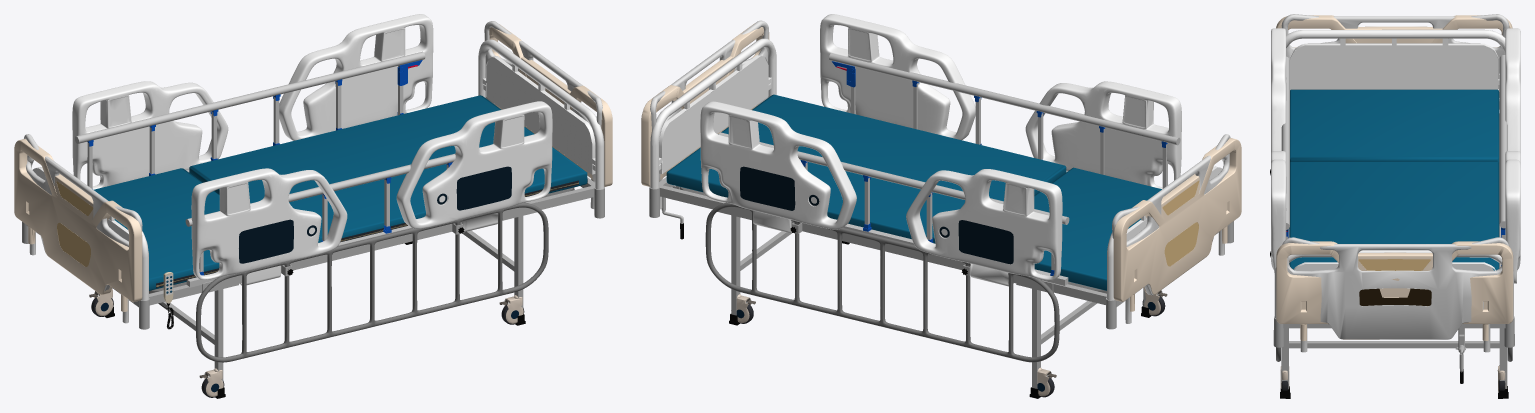
File: semi_fowler_cot-GLB1-optimized.glb
3 views of the same model, side by side, from view 1: azimuth 30°, elevation 25°; view 2: azimuth 150°, elevation 25°; view 3: azimuth 270°, elevation 25° (orthographic).
Parts seen in each view (by area): view 1: Abs-siderail, Bed, Abs-2(foot&head), Aluminium collapsible, MS-side, ss_head&foot, Cube.001, Abs-1 foot&head, ms_head&foot, tyre, base_foot&head, zipper; view 2: Abs-siderail, Bed, Abs-2(foot&head), Aluminium collapsible, ss_head&foot, MS-side, Cube.001, Abs-1 foot&head, ms_head&foot, tyre, base_foot&head, bush; view 3: Bed, Abs-1 foot&head, ss_head&foot, Abs-2(foot&head), Abs-siderail, Cube.001, Aluminium collapsible, ms_head&foot, base_foot&head, bush, tyre.
Part boxes in pixels (left/top/right/bottom): Abs-siderail: left=72, top=14, right=552, bottom=285; Bed: left=93, top=95, right=587, bottom=290; Abs-2(foot&head): left=14, top=24, right=612, bottom=311; Aluminium collapsible: left=75, top=51, right=529, bottom=287; MS-side: left=196, top=202, right=548, bottom=362; ss_head&foot: left=27, top=39, right=604, bottom=300; Cube.001: left=26, top=177, right=595, bottom=366; Abs-1 foot&head: left=24, top=21, right=602, bottom=323; ms_head&foot: left=27, top=39, right=603, bottom=300; tyre: left=89, top=289, right=524, bottom=397; base_foot&head: left=22, top=187, right=604, bottom=329; zipper: left=156, top=180, right=578, bottom=287; Abs-siderail: left=700, top=14, right=1181, bottom=286; Bed: left=666, top=94, right=1161, bottom=290; Abs-2(foot&head): left=641, top=23, right=1241, bottom=311; Aluminium collapsible: left=719, top=53, right=1180, bottom=285; ss_head&foot: left=651, top=38, right=1227, bottom=299; MS-side: left=705, top=202, right=1059, bottom=362; Cube.001: left=659, top=177, right=1229, bottom=366; Abs-1 foot&head: left=650, top=20, right=1230, bottom=323; ms_head&foot: left=650, top=38, right=1227, bottom=300; tyre: left=736, top=290, right=1167, bottom=397; base_foot&head: left=649, top=186, right=1233, bottom=329; bush: left=729, top=241, right=1151, bottom=398; Bed: left=1289, top=89, right=1499, bottom=270; Abs-1 foot&head: left=1281, top=14, right=1509, bottom=352; ss_head&foot: left=1275, top=29, right=1513, bottom=318; Abs-2(foot&head): left=1276, top=15, right=1513, bottom=341; Abs-siderail: left=1271, top=28, right=1520, bottom=283; Cube.001: left=1281, top=99, right=1507, bottom=383; Aluminium collapsible: left=1281, top=55, right=1507, bottom=266; ms_head&foot: left=1274, top=30, right=1513, bottom=317; base_foot&head: left=1273, top=316, right=1514, bottom=347; bush: left=1280, top=367, right=1508, bottom=398; tyre: left=1280, top=365, right=1505, bottom=391.
Bounding box in the file's own units: 4.12 × 1.77 × 1.88.
34 materials, 2 textured.
